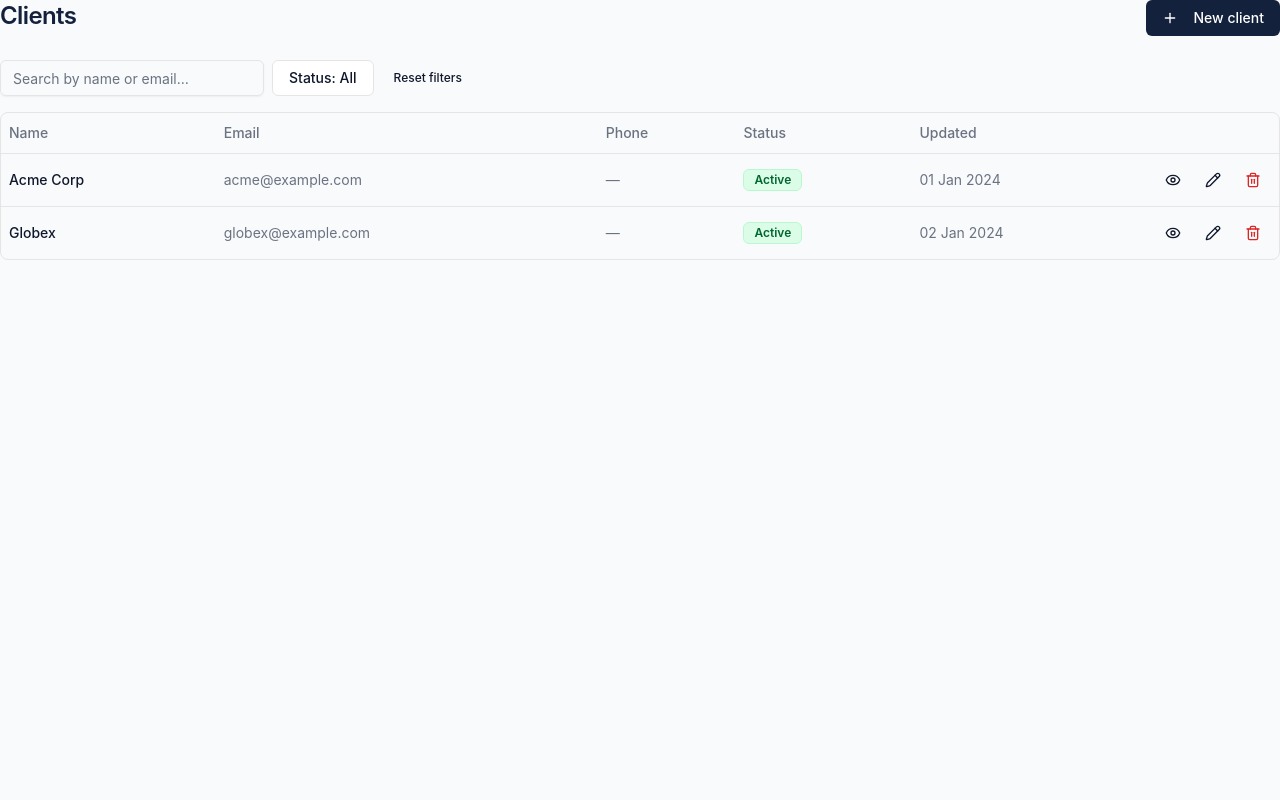
Scenario: ClientsPage › create flow: opens sheet, submits form, list refreshes
Click the button with test id "btn-new-client".
click(1213, 18)  # box [1146, 0, 1279, 36]
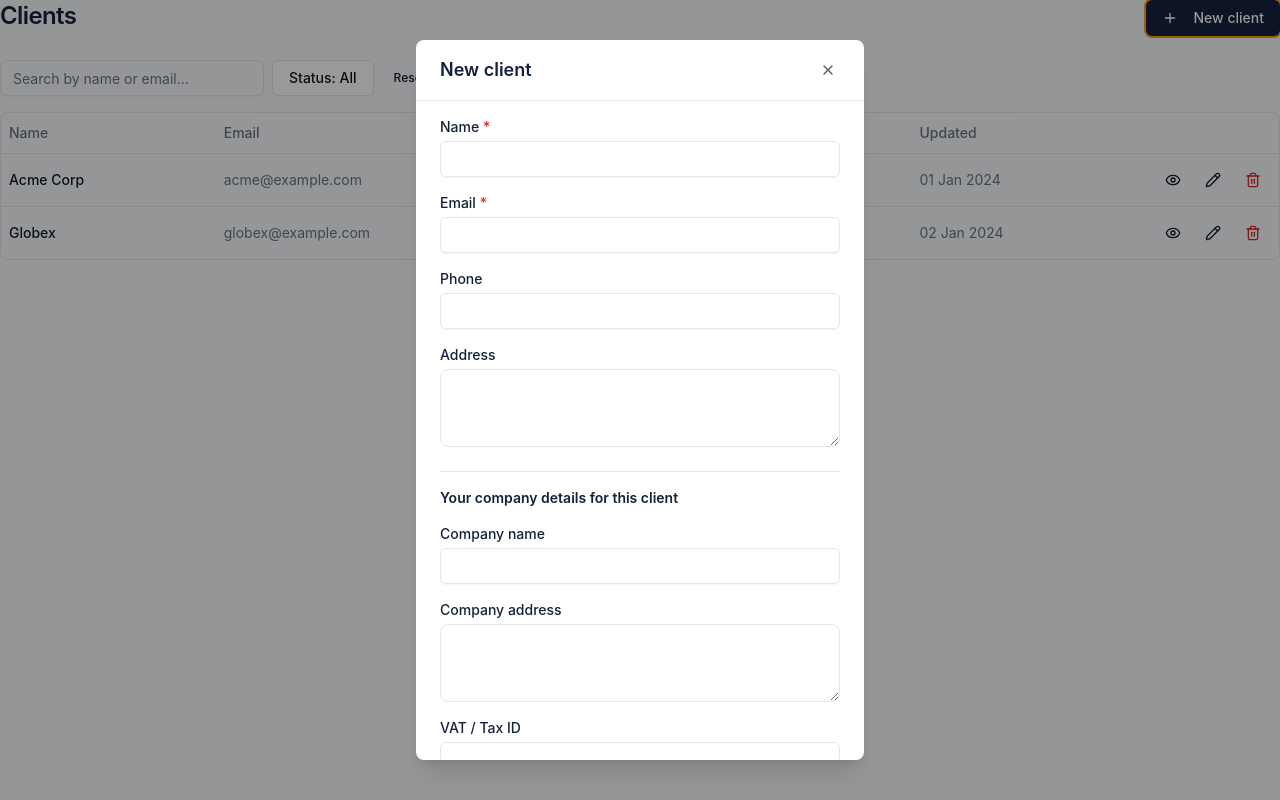
Type "Brand New Client" into the field with test id "input-name".
click(640, 159); type("Brand New Client")  # box [440, 141, 840, 177]
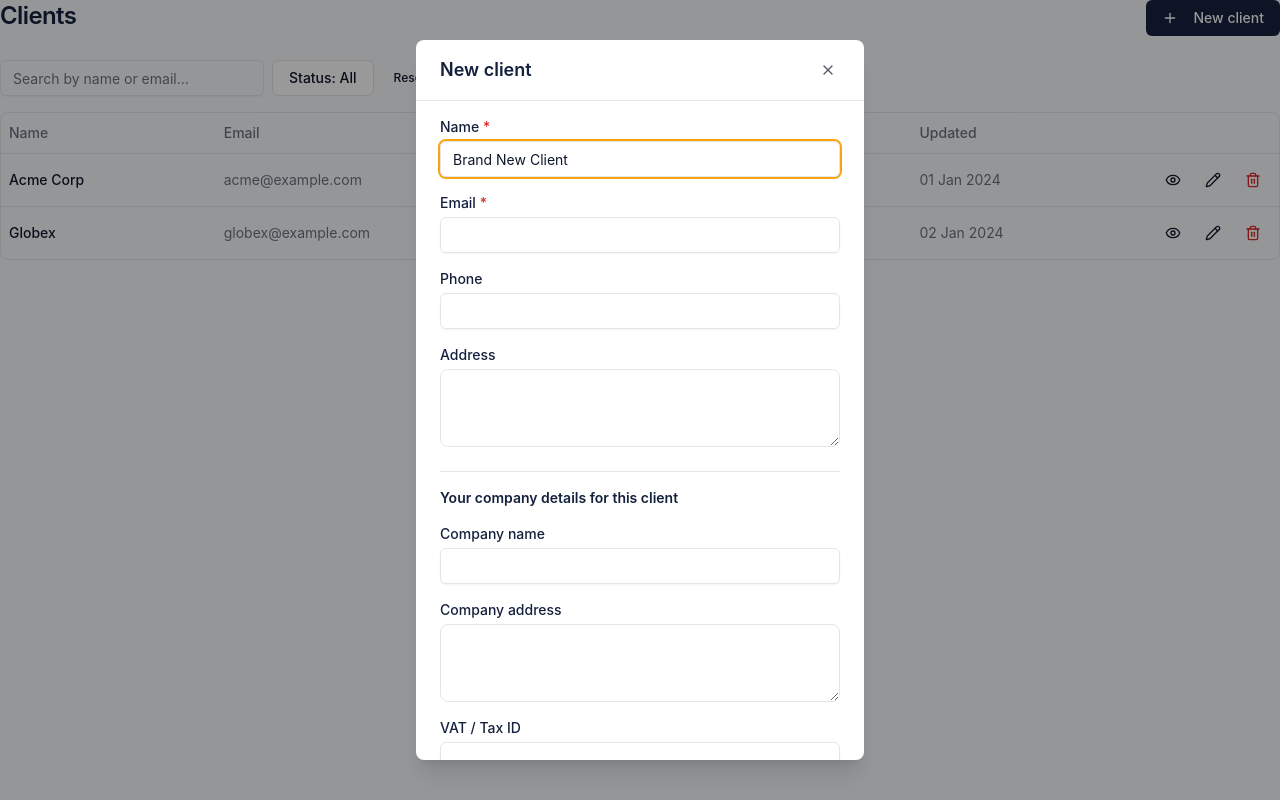
Type "brandnew@client.com" into the field with test id "input-email".
click(640, 235); type("brandnew@client.com")  # box [440, 217, 840, 253]
(page scrolled)
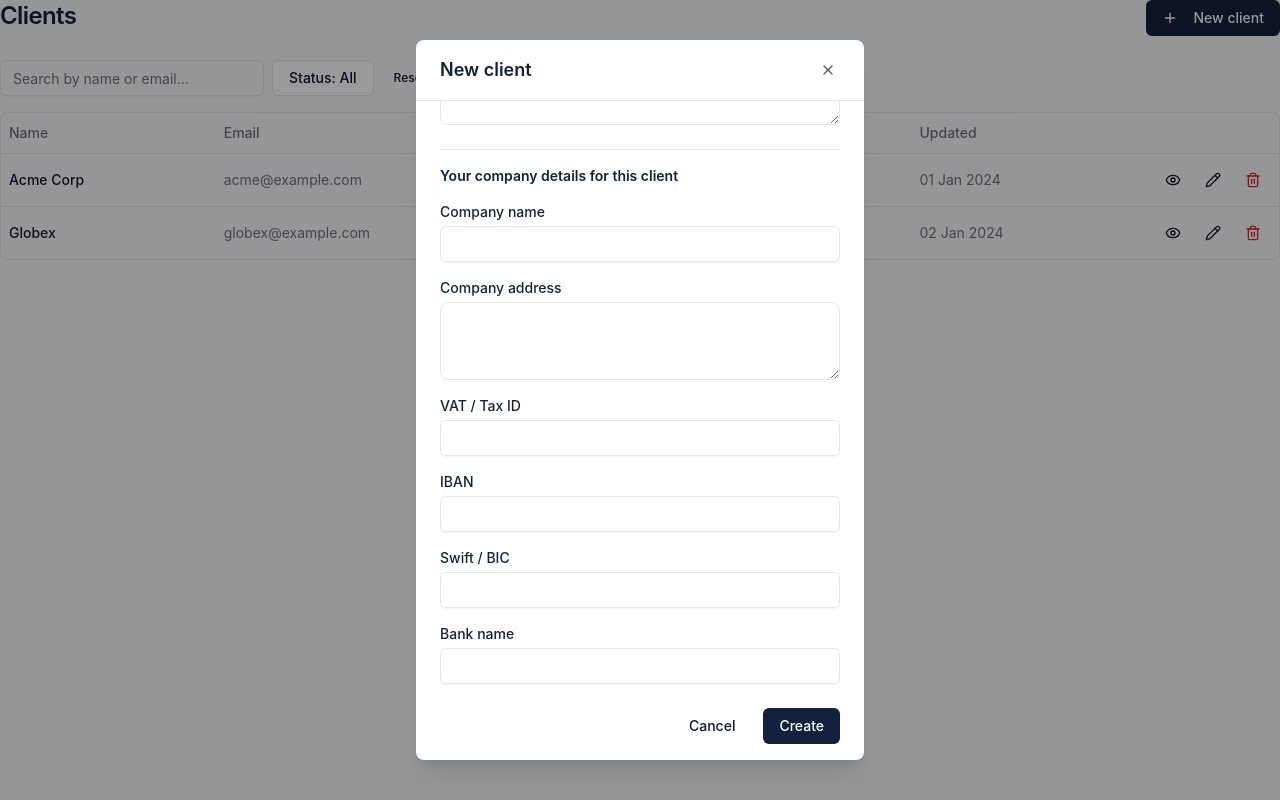
Click the button with test id "btn-submit".
click(802, 726)  # box [763, 708, 840, 744]
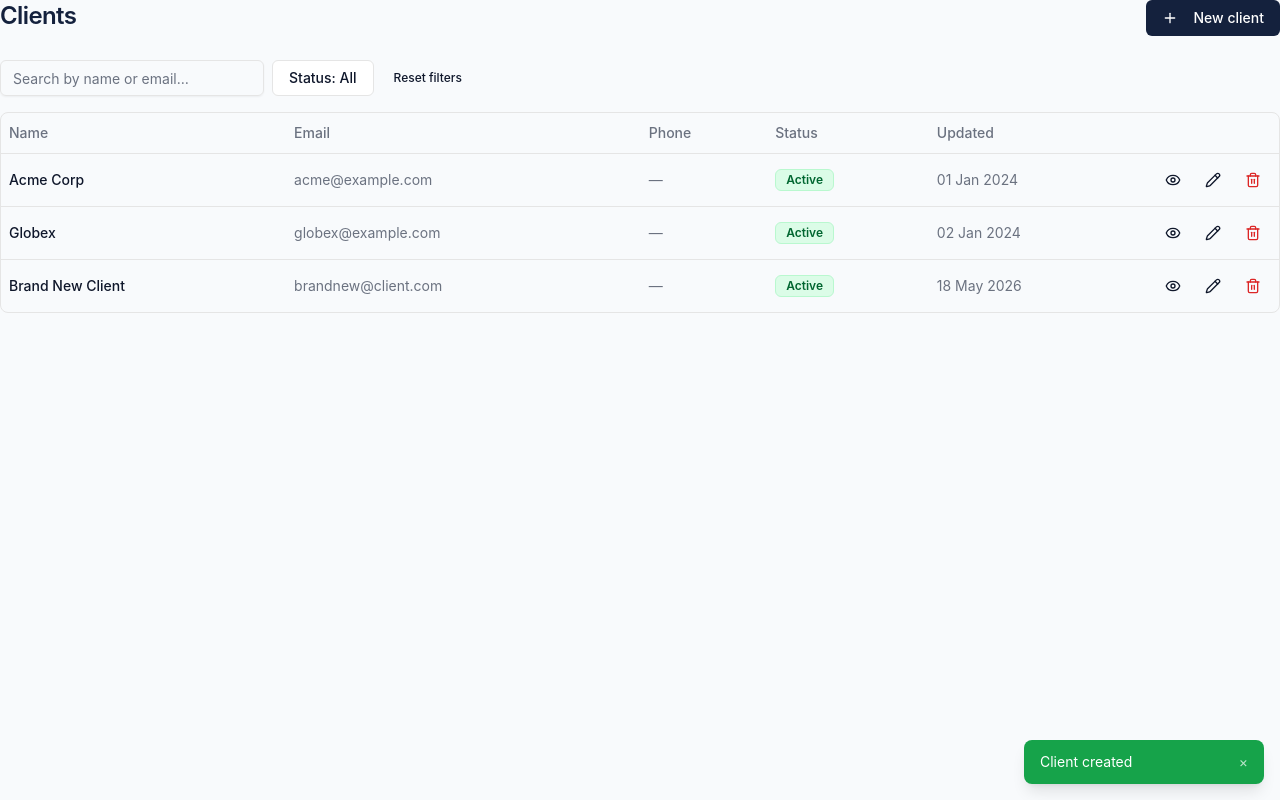
Now the dialog with test id "client-form-sheet" is gone
Now the text "Brand New Client" is shown, box [1, 259, 286, 312]
